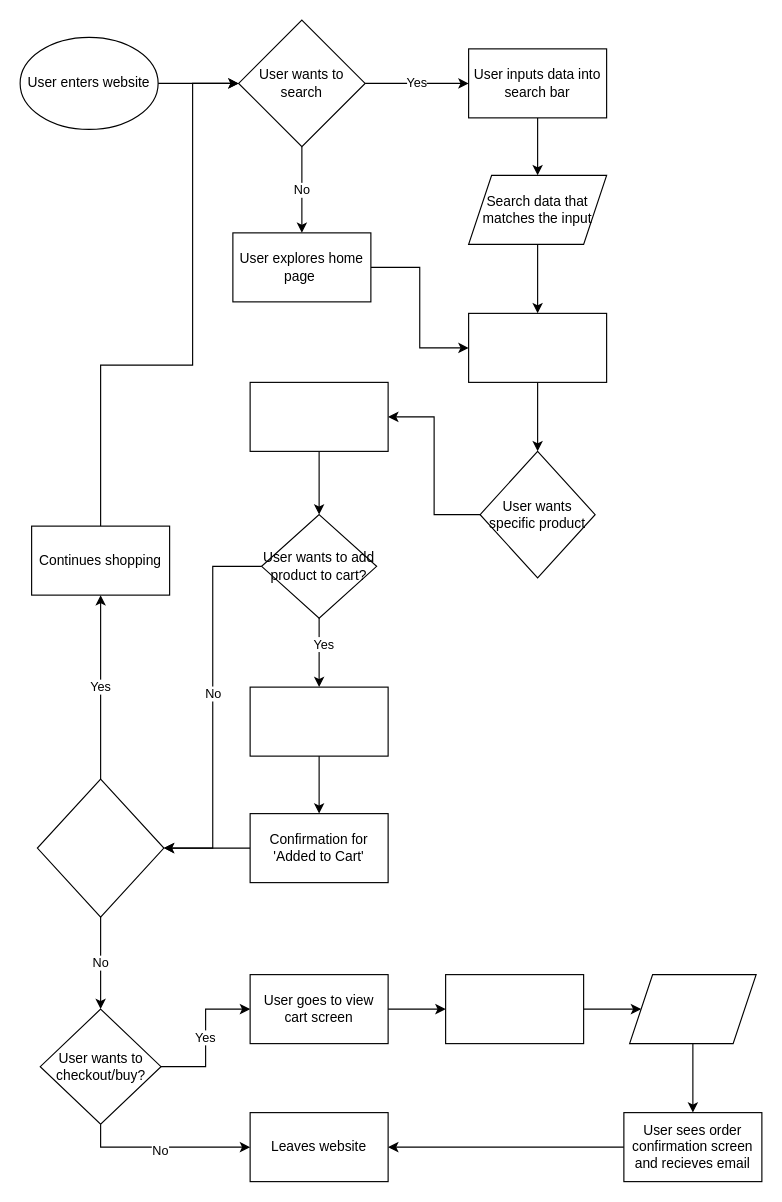
Some shapes in this 782 by 1202 pixel diagram are drawn without their labels. The centre of each missing label's shape, as x and y in pixels:
"Opens specific product webpage" goes at point 318,416.
"User adds to cart" goes at point 318,721.
"User goes to view payment screen" goes at point 514,1008.
"User inputs payment information" goes at point 692,1008.
"User looks over products" goes at point 537,347.
"User wants to continue shopping?" goes at point 100,847.
